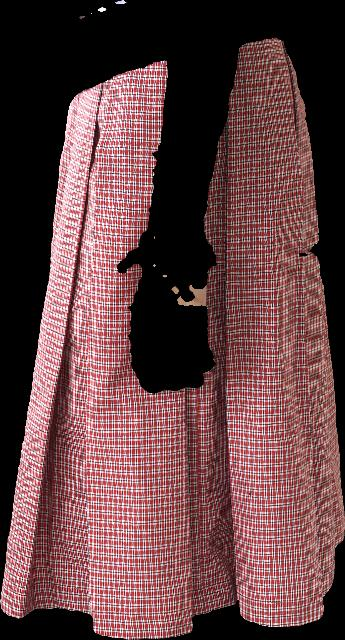skirt: (0, 38, 344, 639)
